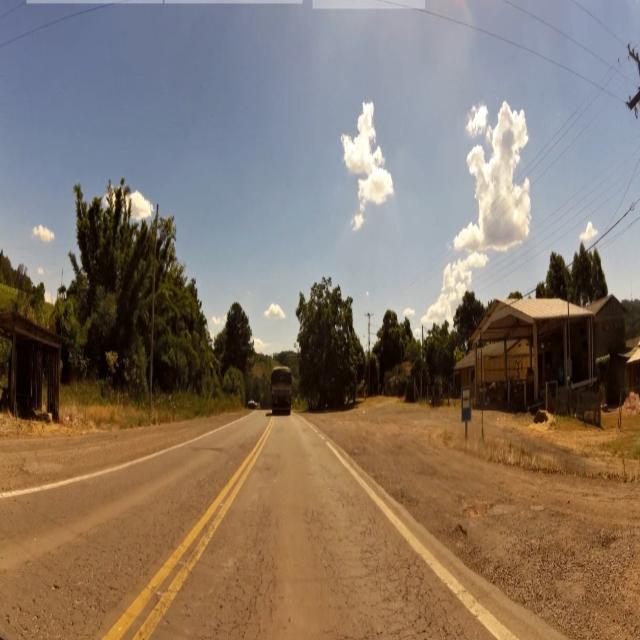S-14: (461, 389, 471, 424)
